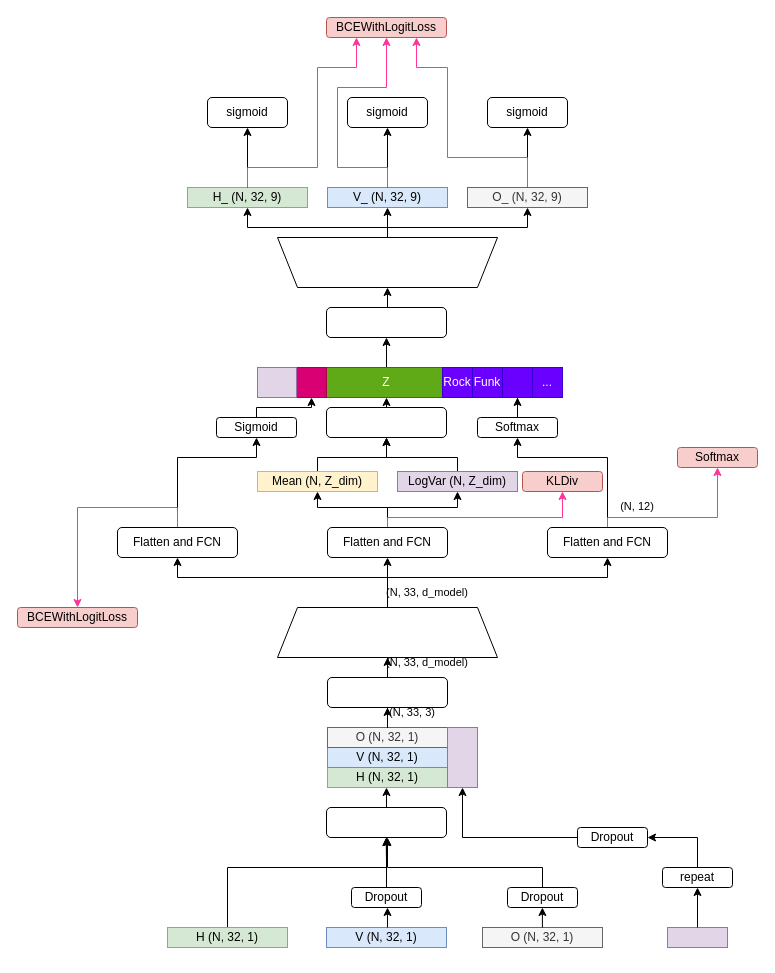
This 775x973 diagram has some shape labels left out. The shapes that lost their labels are listed below. From the top down, each one's centre as x and y in pixels, then its label:
point 387,262: Decoder
point 386,322: FCN and Reshape
point 276,382: Tempo
point 311,382: Comp lexity
point 386,422: Reparametrize
point 387,632: Encoder
point 387,692: Input Layer (FCN)
point 462,757: Tempo (N, 1, 3)
point 386,822: concat
point 697,937: Tempo (N)
